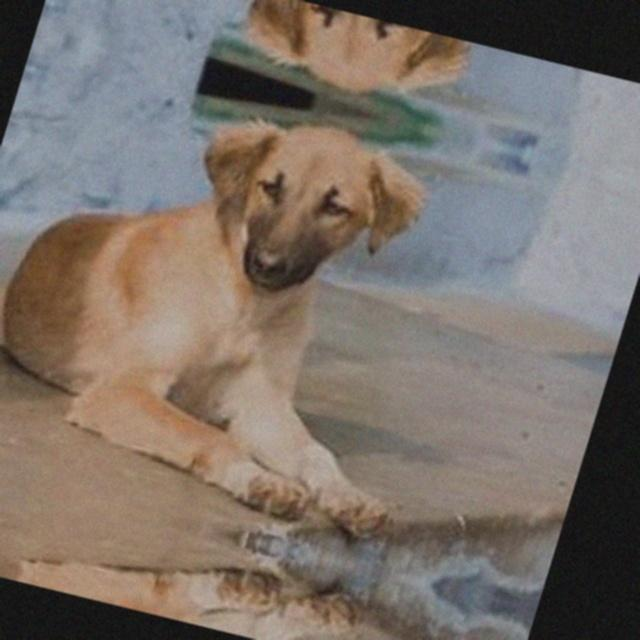dog: (0, 52, 509, 555), (80, 0, 540, 141), (0, 485, 377, 640)
